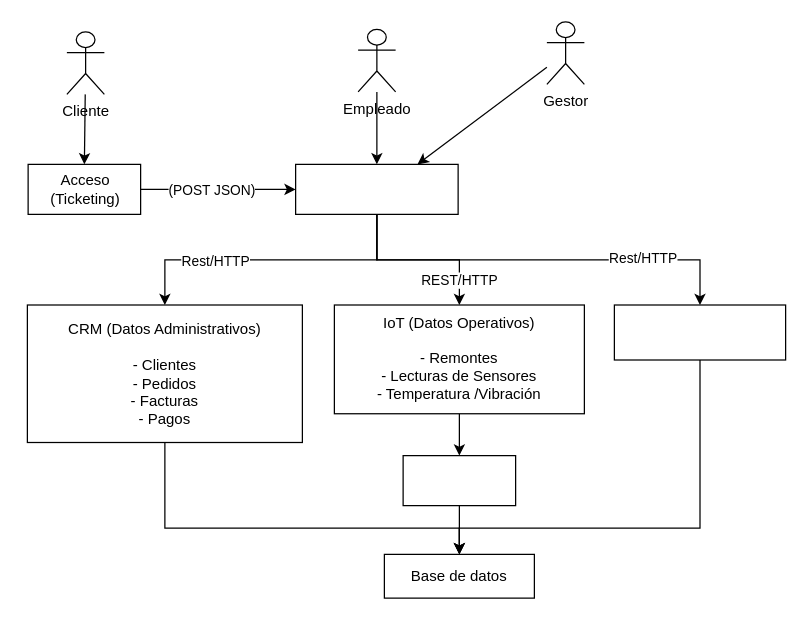
Image size: 808x620. Some labels were removed from this diagram. The centre of each missing label's shape, as x and y in pixels:
Interfaz web (visualización de datos unificados): pixel 699 332
Mantenimiento (Orden ERP): pixel 459 480
Plataforma central (API Unificada): pixel 376 188
